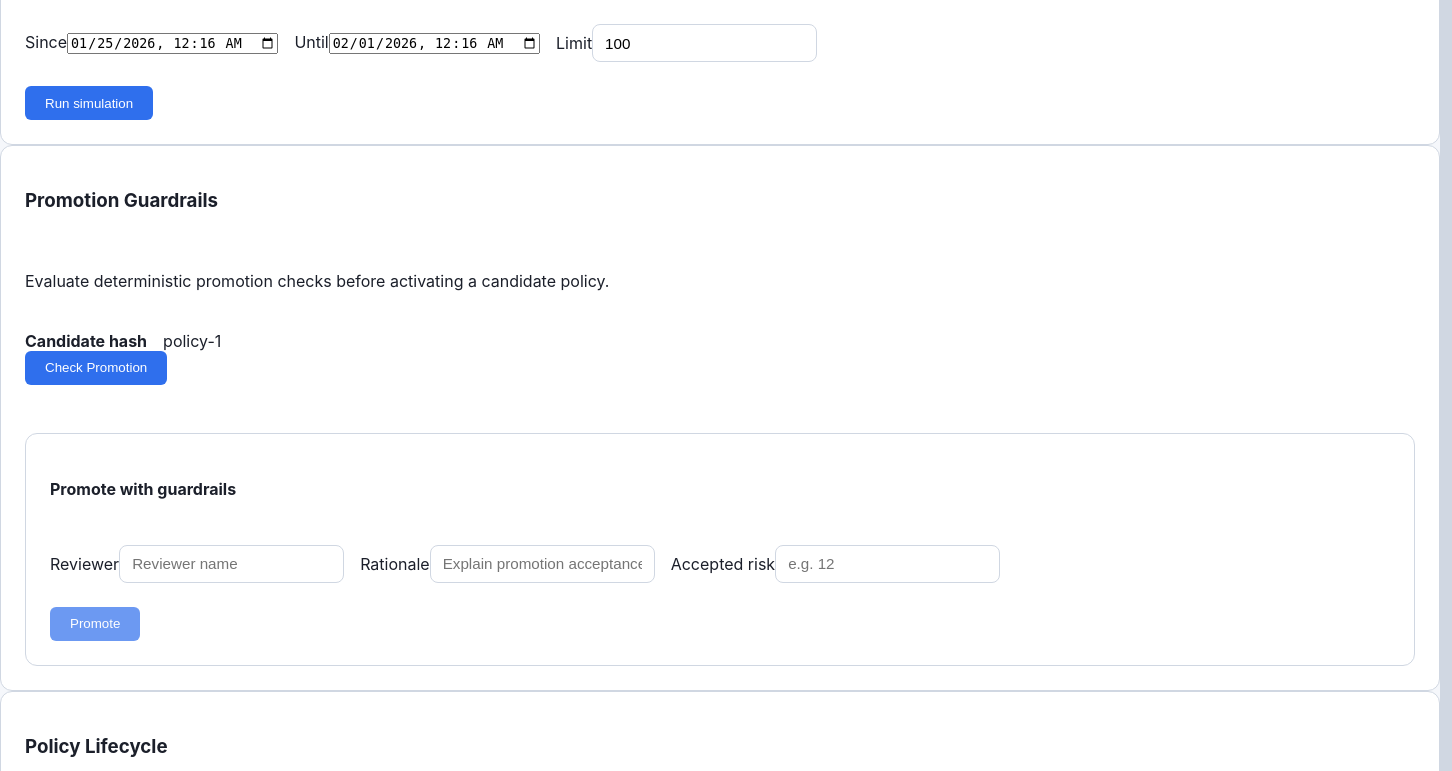
it: blocked promotion requires force checkbox to enable promotion
The width and height of the screenshot is (1452, 771).
(page scrolled)
Expected: the text "policy-1" is shown, [163, 331, 221, 351]
Click the button "Check Promotion" at coordinates (96, 368), box [25, 351, 167, 385]
(page scrolled)
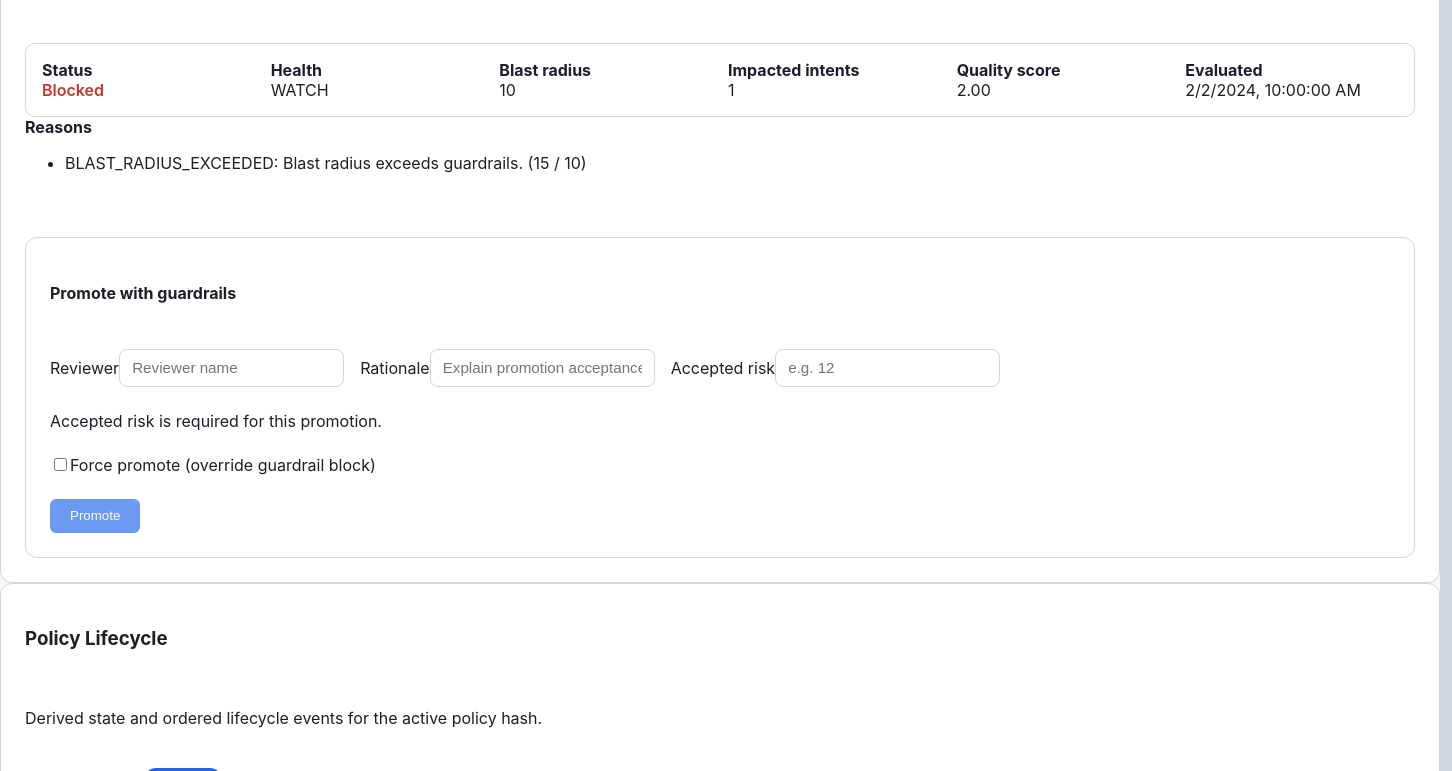
Result: the list item "BLAST_RADIUS_EXCEEDED" is shown at [65, 153, 274, 173]
Type "Reviewer" into the field labelled "Reviewer" at coordinates (232, 368), box [119, 349, 344, 387]
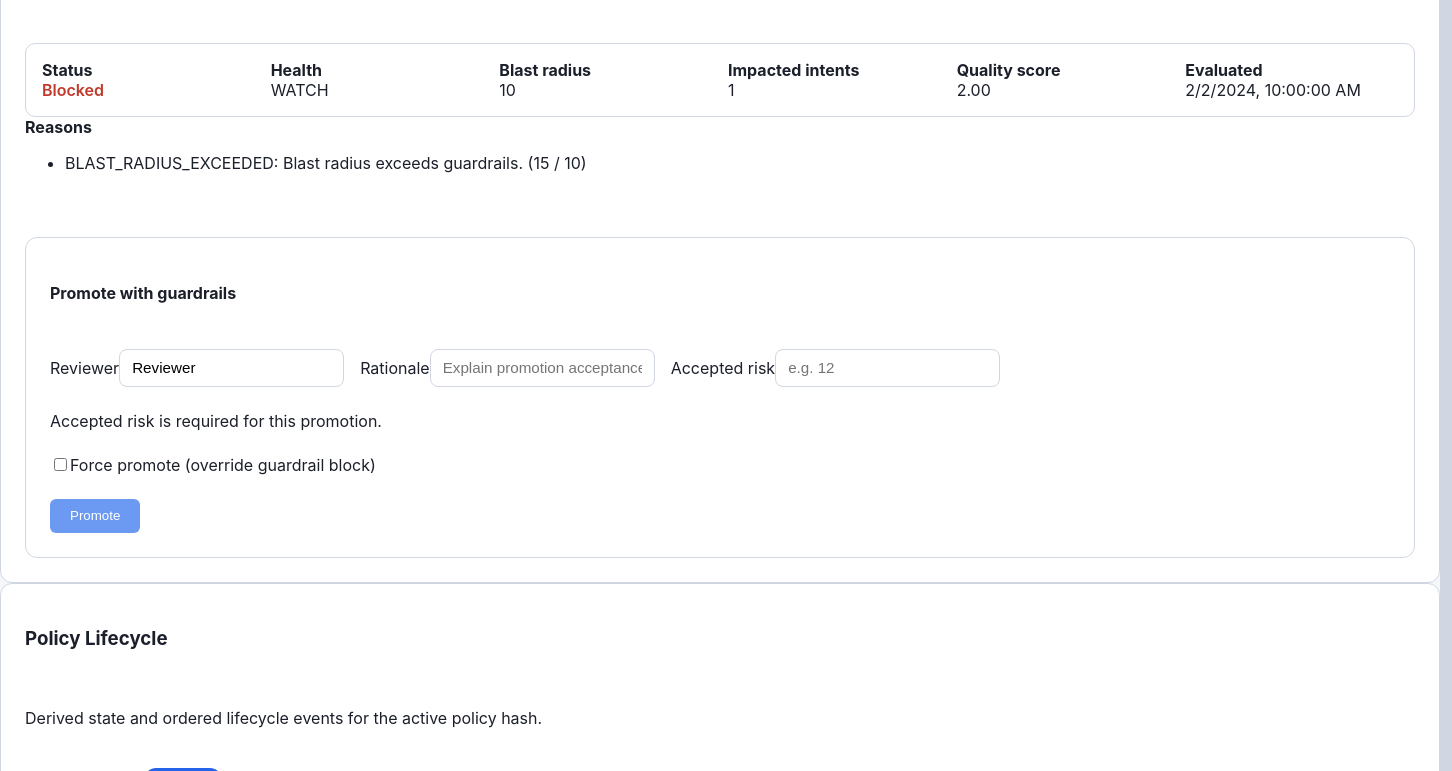
Type "Guardrail override accepted for limited blast radius." into the field with placeholder "Explain promotion acceptance" at coordinates (542, 368), box [430, 349, 655, 387]
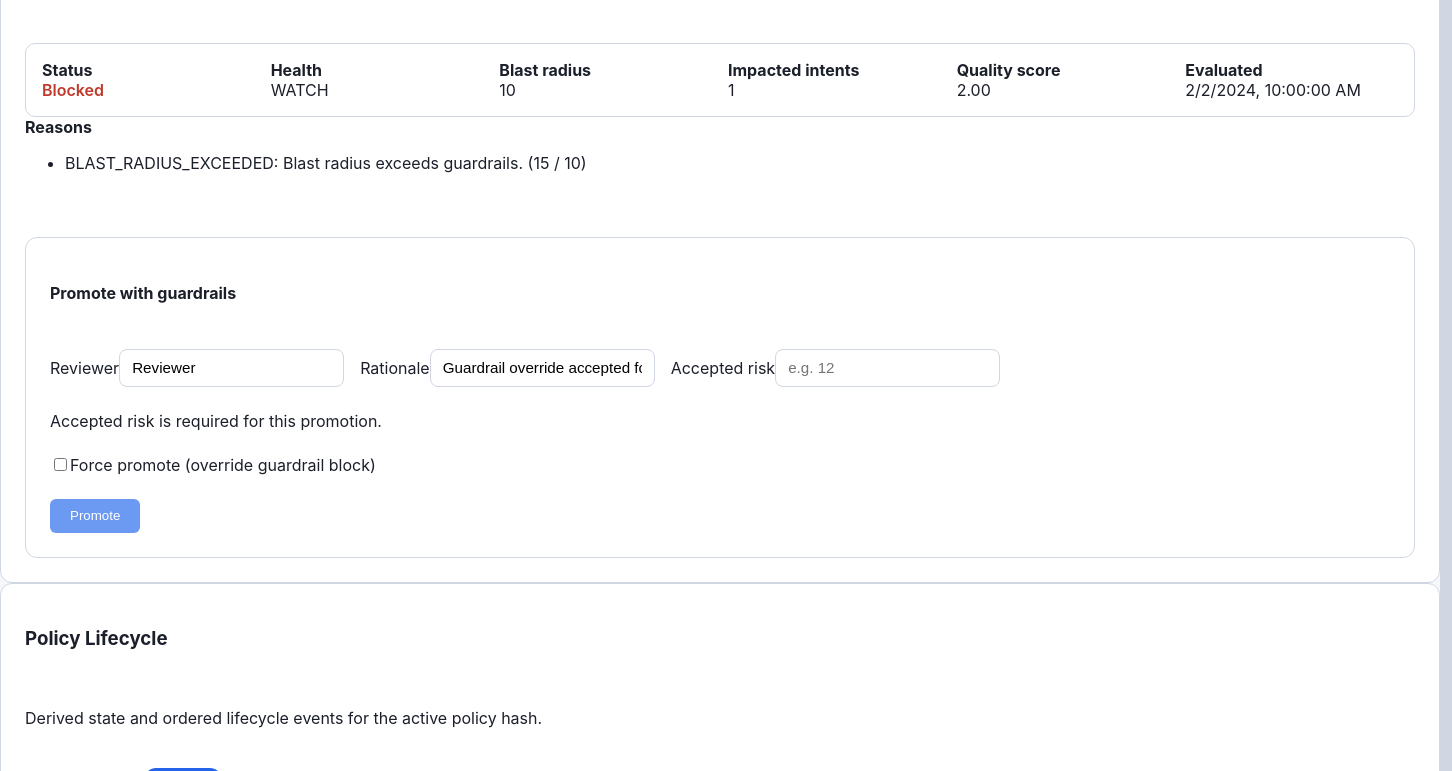
Type "10" into the number field labelled "Accepted risk" at coordinates (888, 368), box [775, 349, 1000, 387]
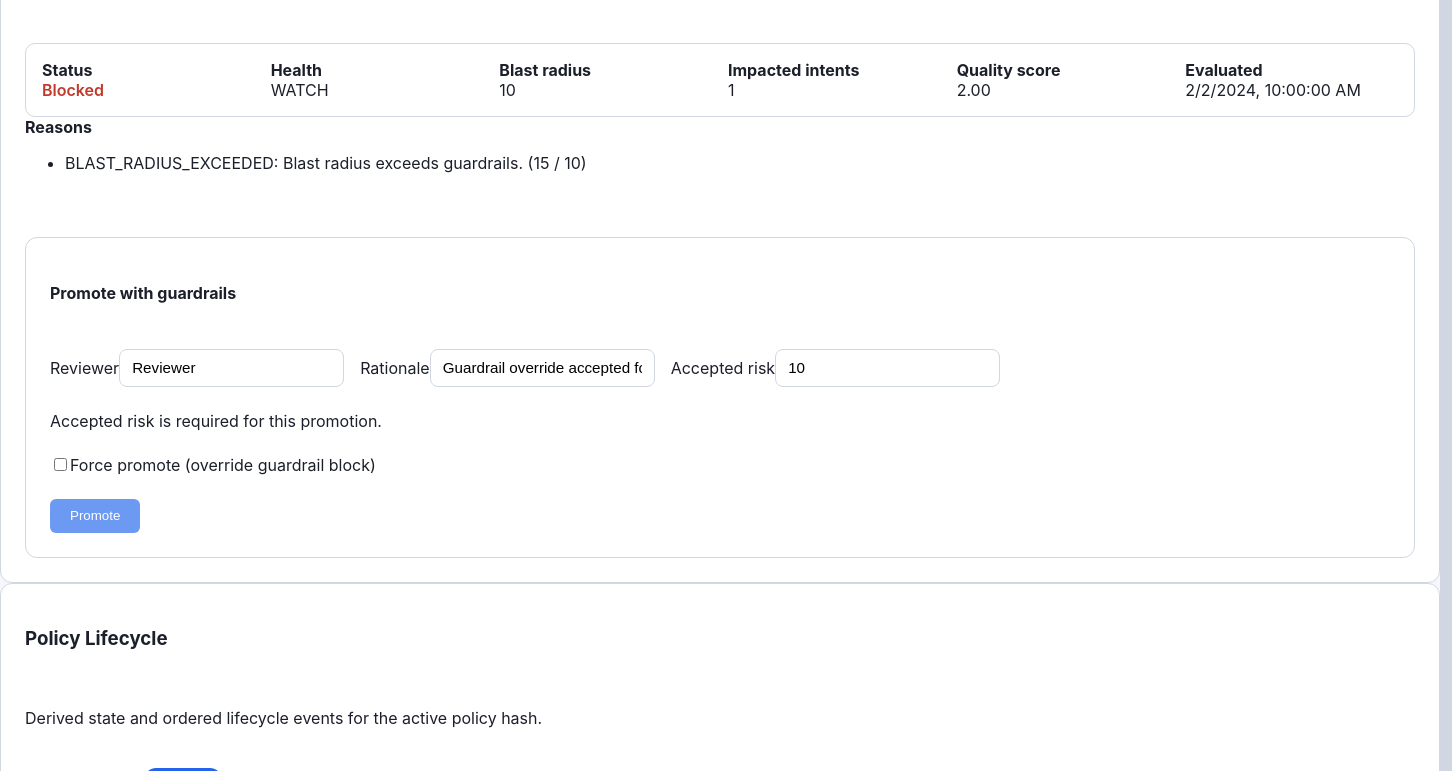
Expected: the button "Promote" is disabled, [50, 499, 140, 533]
Click the checkbox labelled "Force promote (override guardrail block)" at coordinates (60, 464), box [54, 458, 67, 471]
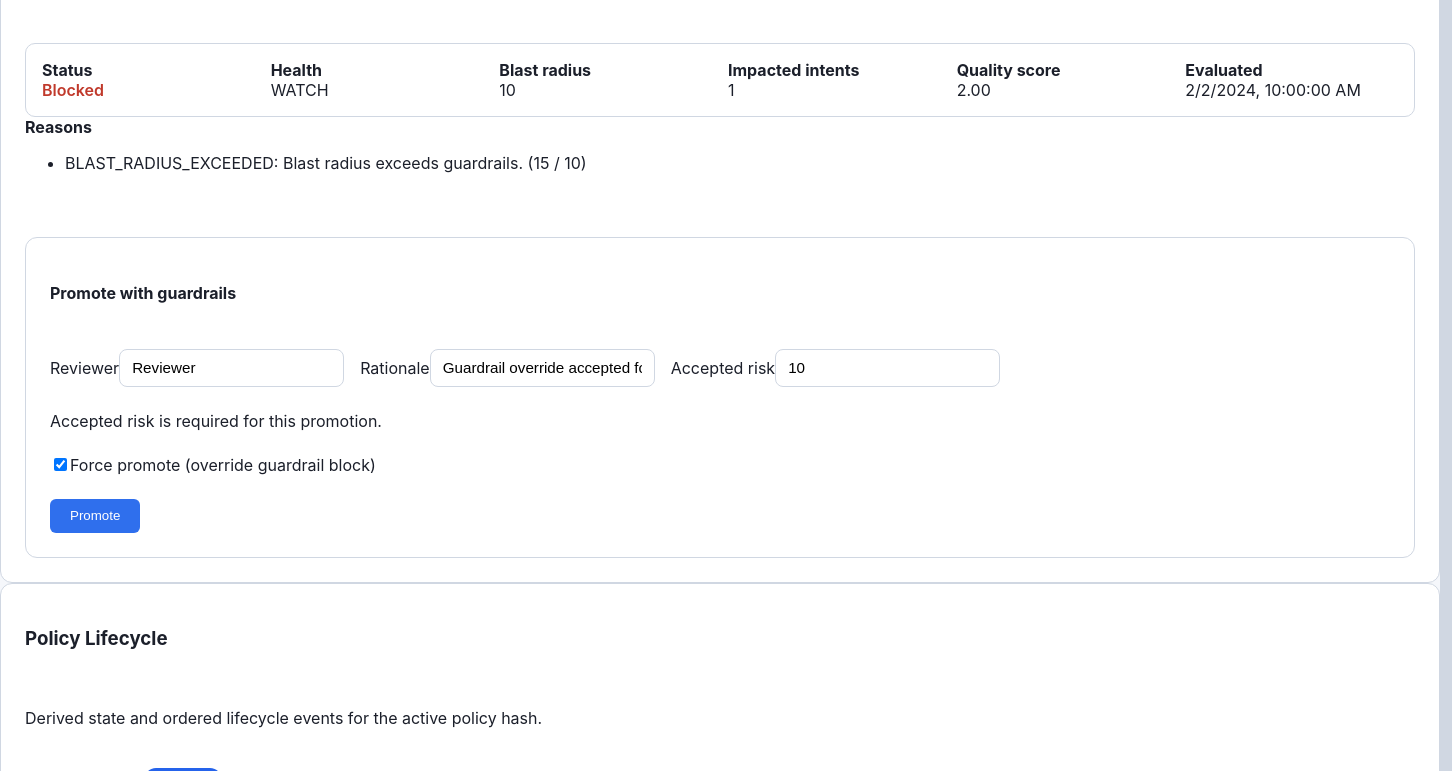
Result: the button "Promote" is enabled at [50, 499, 140, 533]
